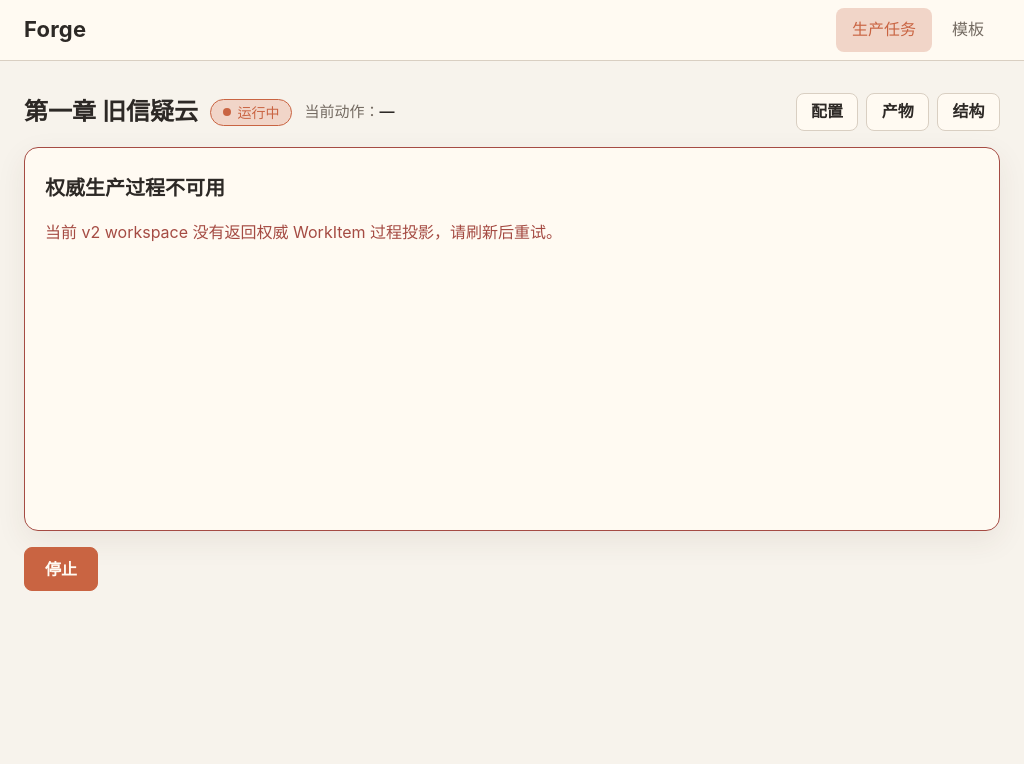
Test: ProductionPage version dispatch (Task 24) › slot tree tab lazy-loads children, windows visible rows and offers locate
Click the button "结构" at (969, 112), box [937,93,1000,131]
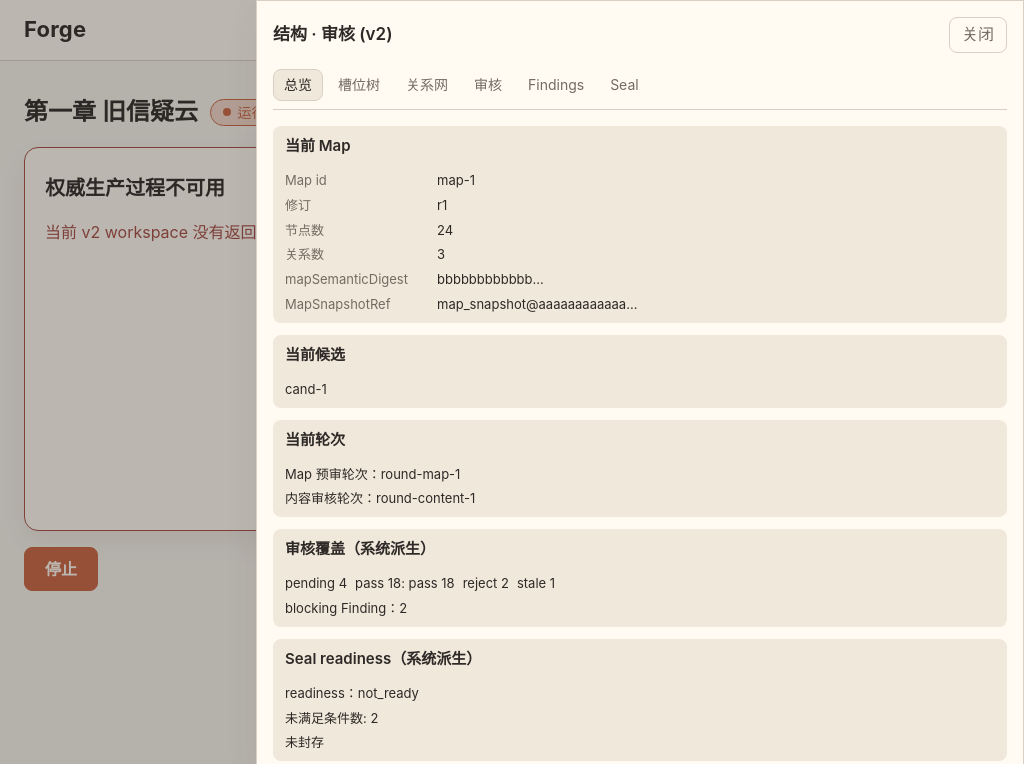
Click the tab "槽位树" at (359, 85), box [327,69,391,101]
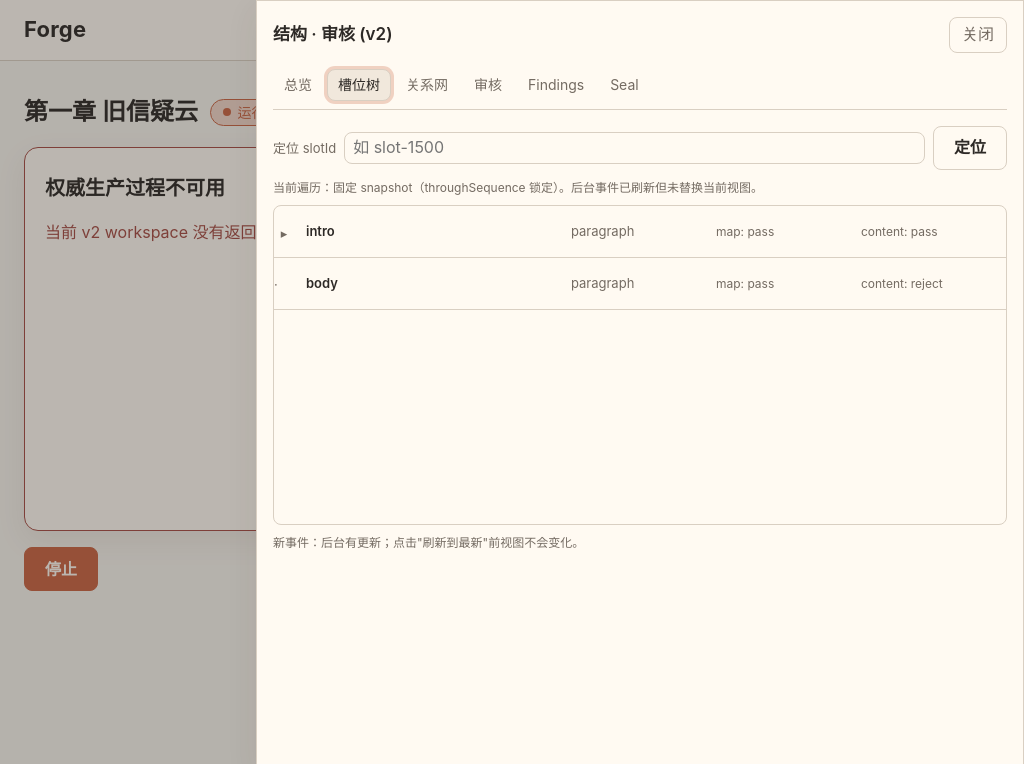
Expected: the list item "quote" is not shown
Now the list item "▸ intro paragraph map: pass content: pass" is shown, box [274,206,1006,258]
Now the list item "· body paragraph map: pass content: reject" is shown, box [274,258,1006,310]
Expand intro → its child loads.
Click the button named "展开 intro" at (284, 232), box [274,222,294,242]
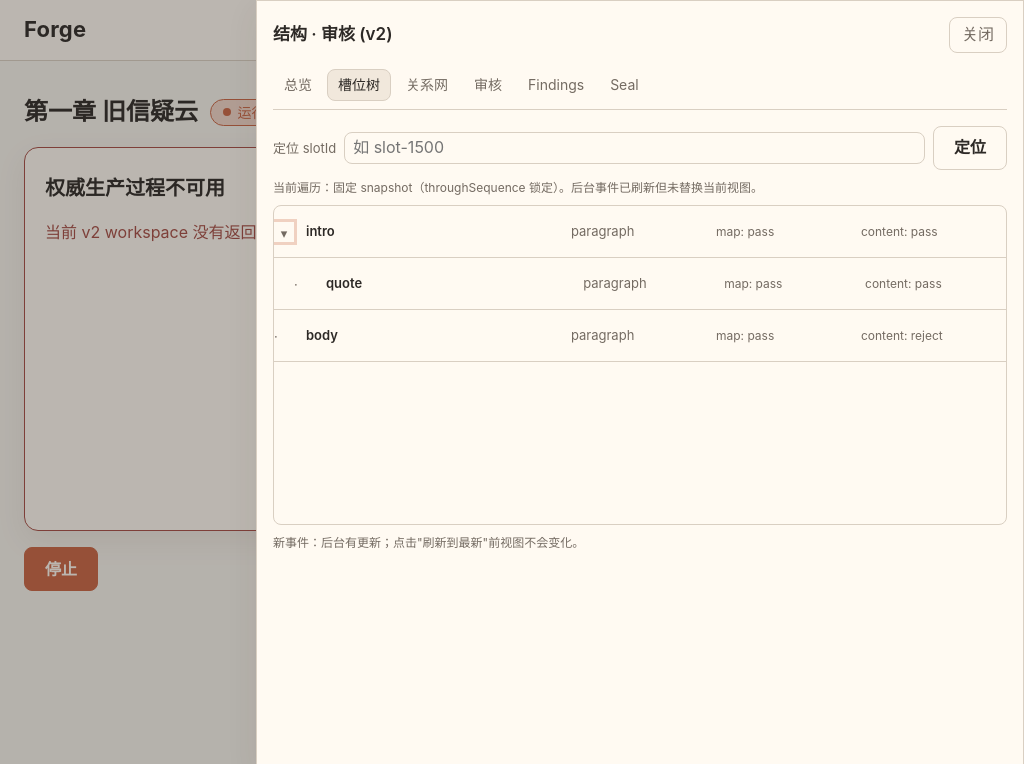
Now the list item "· quote paragraph map: pass content: pass" is shown, box [274,258,1006,310]
Locate input offered for large trees.
Type "slot-1500" into the field labelled "定位 slotId" at (635, 148), box [344,132,925,164]
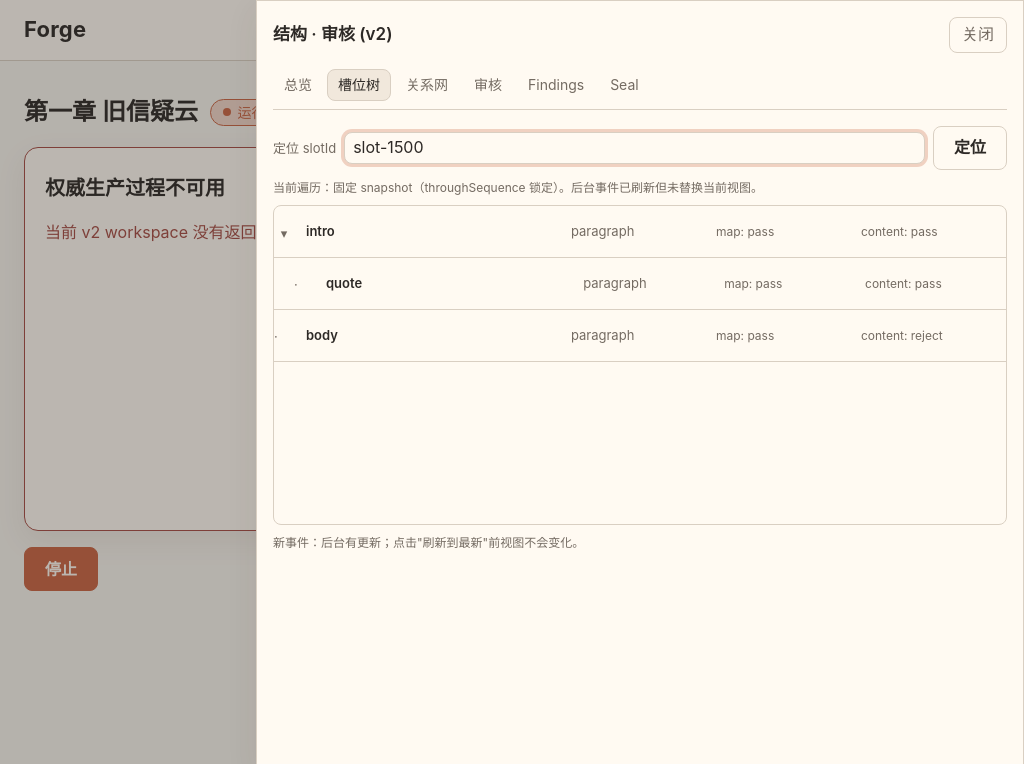
Click the button "定位" at (970, 148), box [933,126,1007,170]
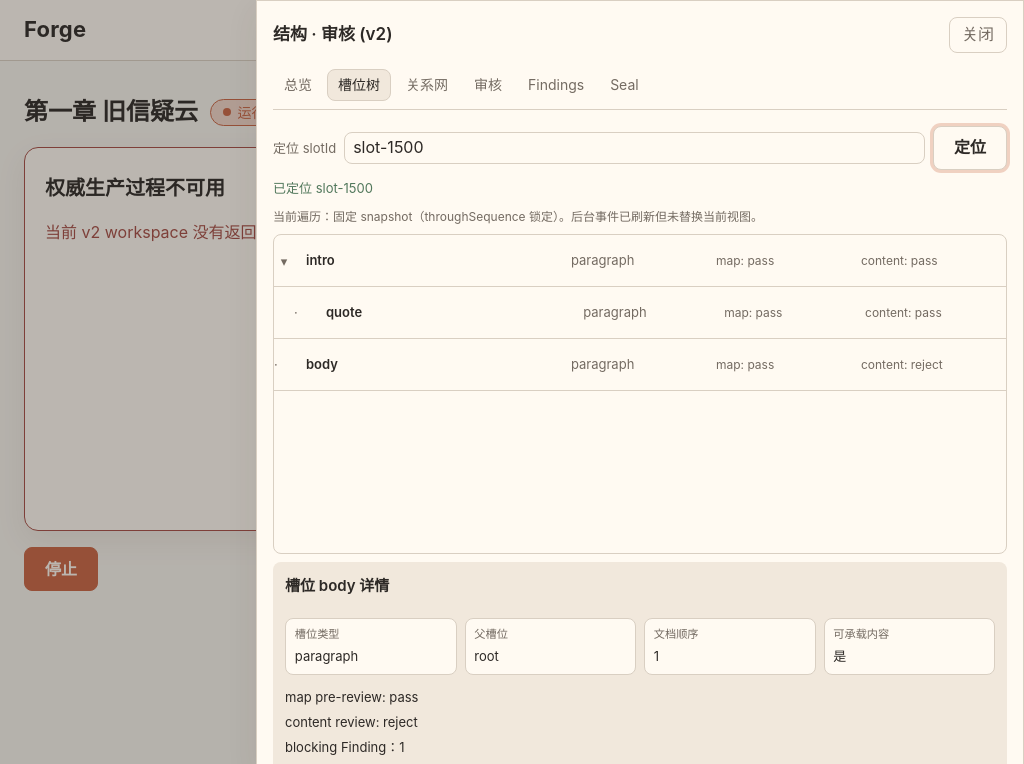
Now the message "已定位 slot-1500" is shown, box [273,180,373,196]
